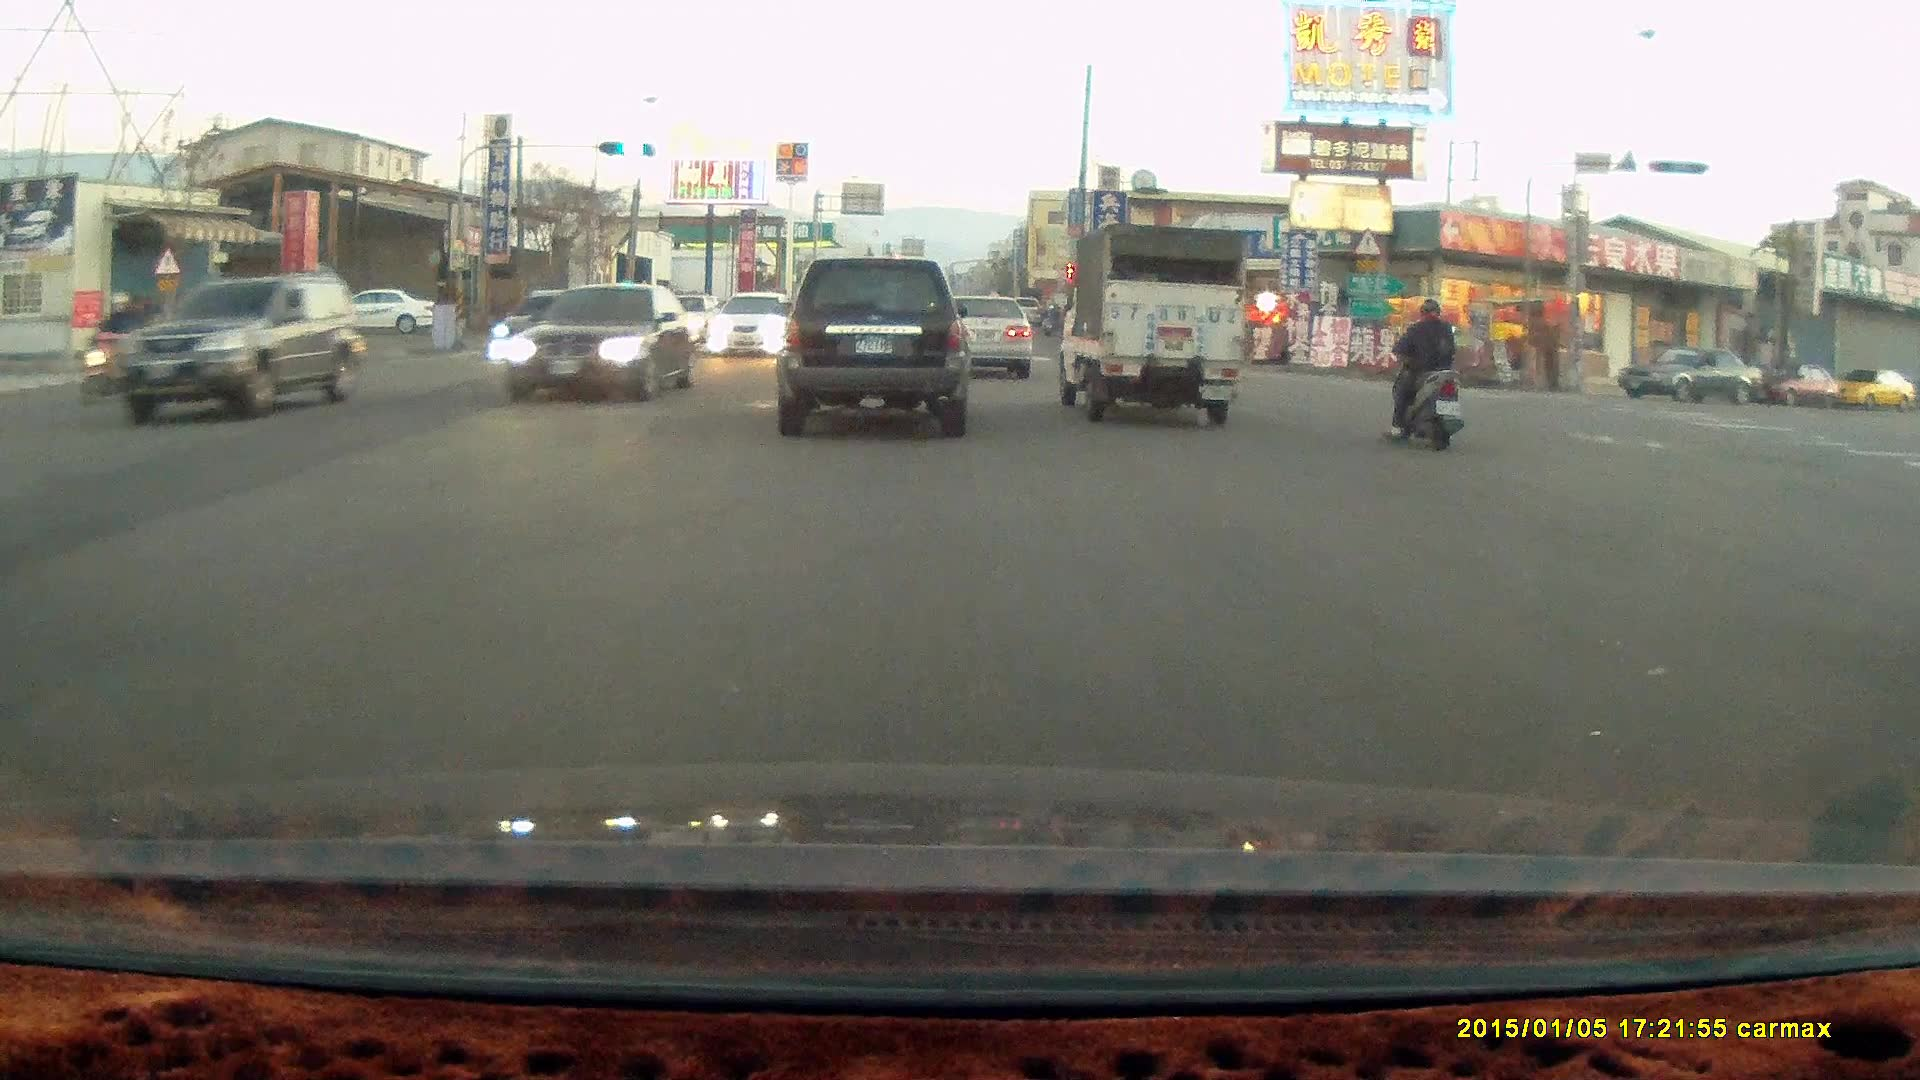rider: (1383, 294, 1464, 447), (71, 289, 163, 401)
vehicle: (1050, 219, 1249, 424), (100, 276, 368, 419), (774, 255, 970, 439), (499, 283, 703, 402), (925, 290, 1033, 380), (1616, 346, 1767, 406), (492, 280, 601, 357), (937, 295, 1037, 381), (707, 294, 794, 361), (323, 286, 440, 335), (1751, 362, 1844, 409), (1829, 368, 1916, 411)
